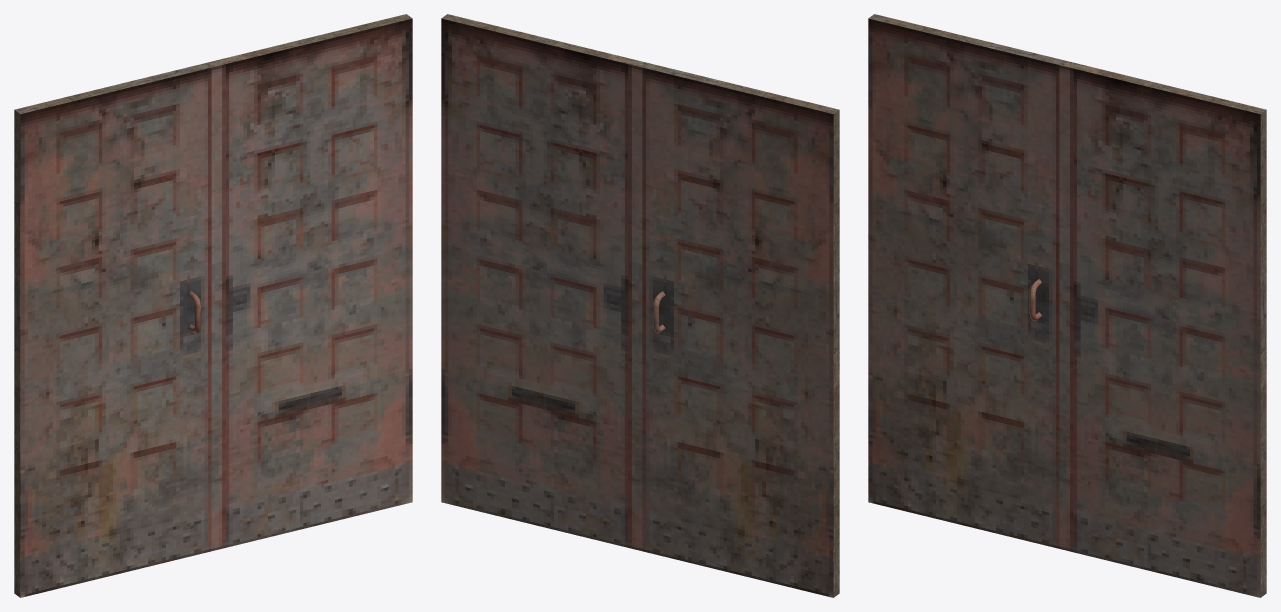
Rendered from _DoubleDoor_1.FBX.
The picture shows the model from 3 angles, left to right: view 1: azimuth 30°, elevation 25°; view 2: azimuth 150°, elevation 25°; view 3: azimuth 330°, elevation 25°; orthographic projection.
Visible parts, largest first — view 1: _DoubleDoor_Right, _DoubleDoor_Left; view 2: _DoubleDoor_Right, _DoubleDoor_Left; view 3: _DoubleDoor_Left, _DoubleDoor_Right.
Boxes of the visible parts, x1=… form: _DoubleDoor_Right: x1=14, y1=62, x2=216, y2=597; _DoubleDoor_Left: x1=211, y1=14, x2=412, y2=549; _DoubleDoor_Right: x1=637, y1=62, x2=839, y2=597; _DoubleDoor_Left: x1=441, y1=14, x2=642, y2=549; _DoubleDoor_Left: x1=1064, y1=62, x2=1266, y2=597; _DoubleDoor_Right: x1=868, y1=14, x2=1069, y2=549.
Size of the model in its own units: 188 by 222 by 19.24.
3 materials, 3 textured.
